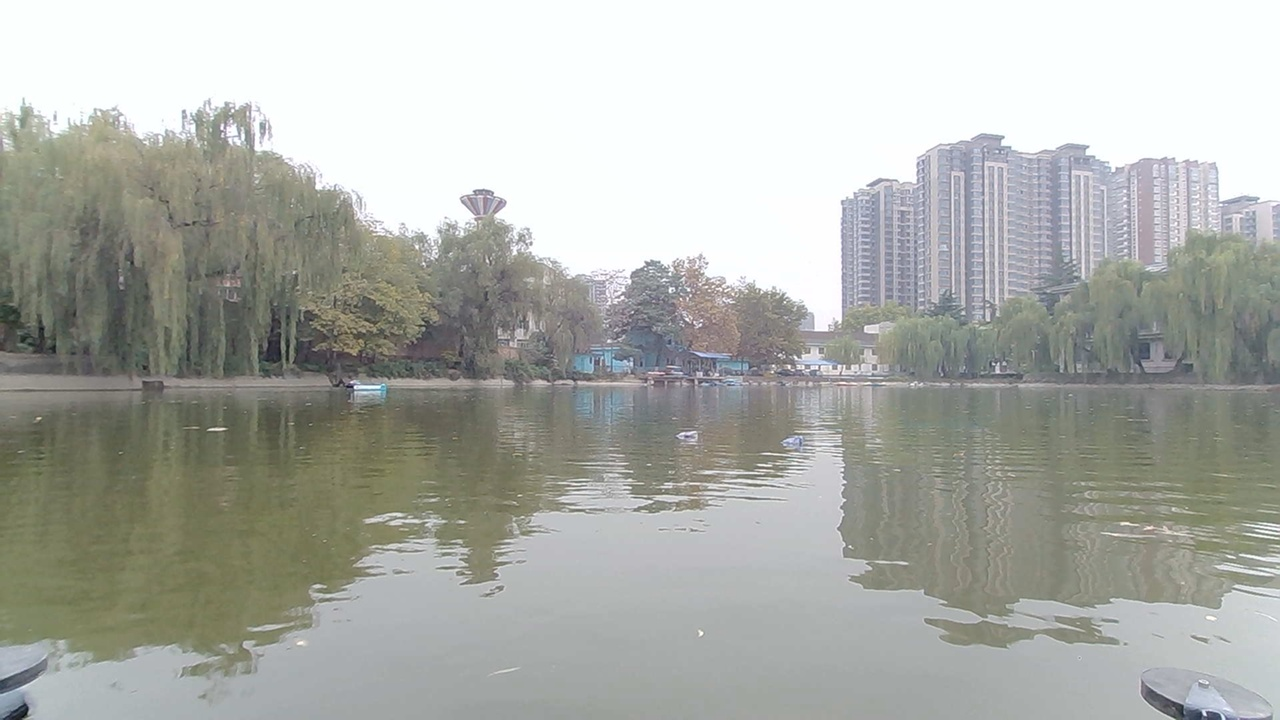bottle: (669, 418, 708, 444), (782, 434, 815, 451)
